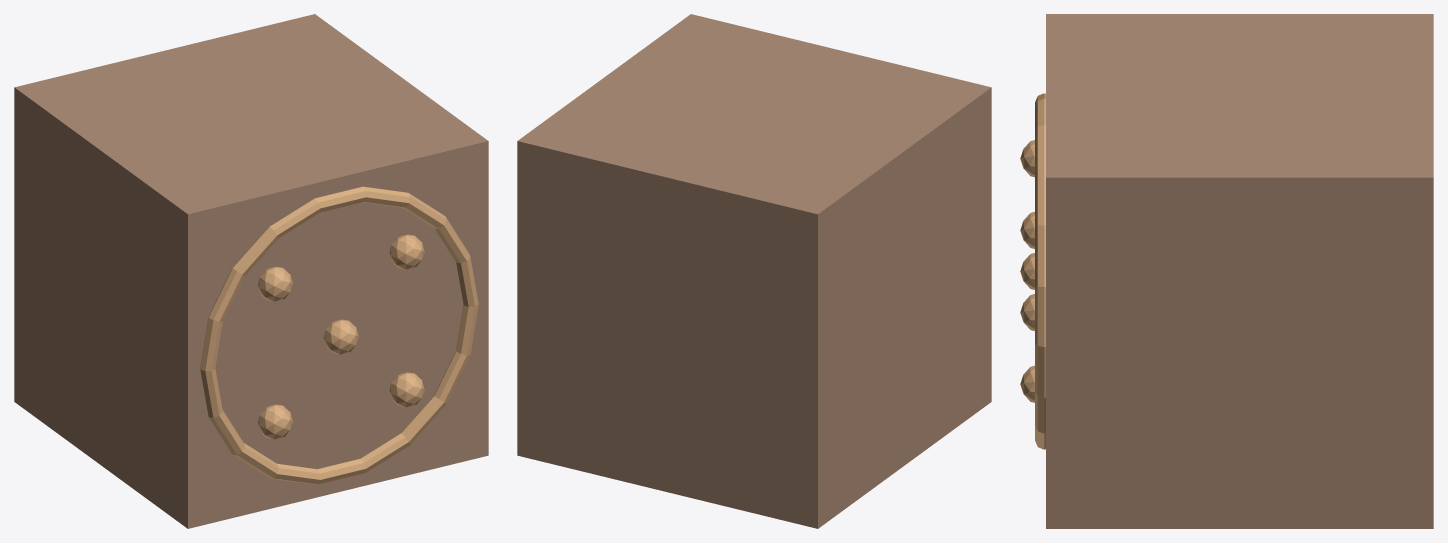
The model's file is zerstoerung.glb.
3 renders of one model, left to right at view 1: azimuth 30°, elevation 25°; view 2: azimuth 150°, elevation 25°; view 3: azimuth 270°, elevation 25°, orthographic. The views are drawn at different scales.
Parts seen in each view (by area): view 1: world; view 2: world; view 3: world.
Boxes of the visible parts, box(x1,y1,x2,y2) form: world: box(14, 14, 488, 528); world: box(517, 14, 991, 528); world: box(1020, 14, 1433, 528).
Bounding box in the file's own units: 1.05 × 1.05 × 1.12.
